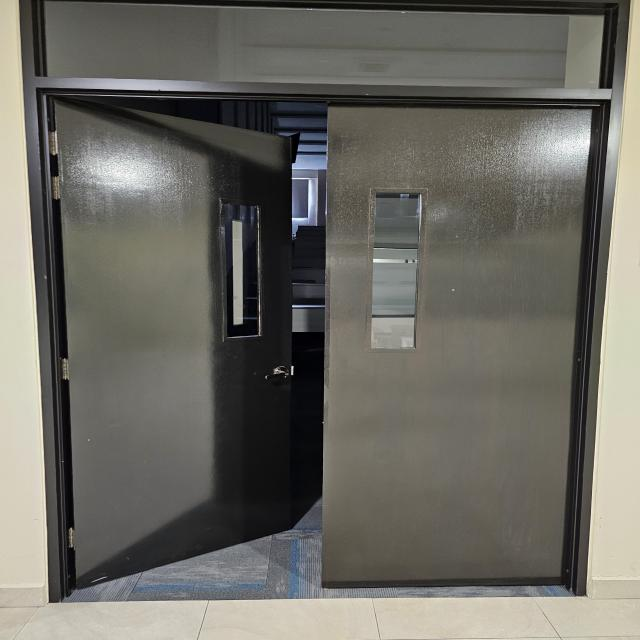door: (29, 86, 616, 606)
